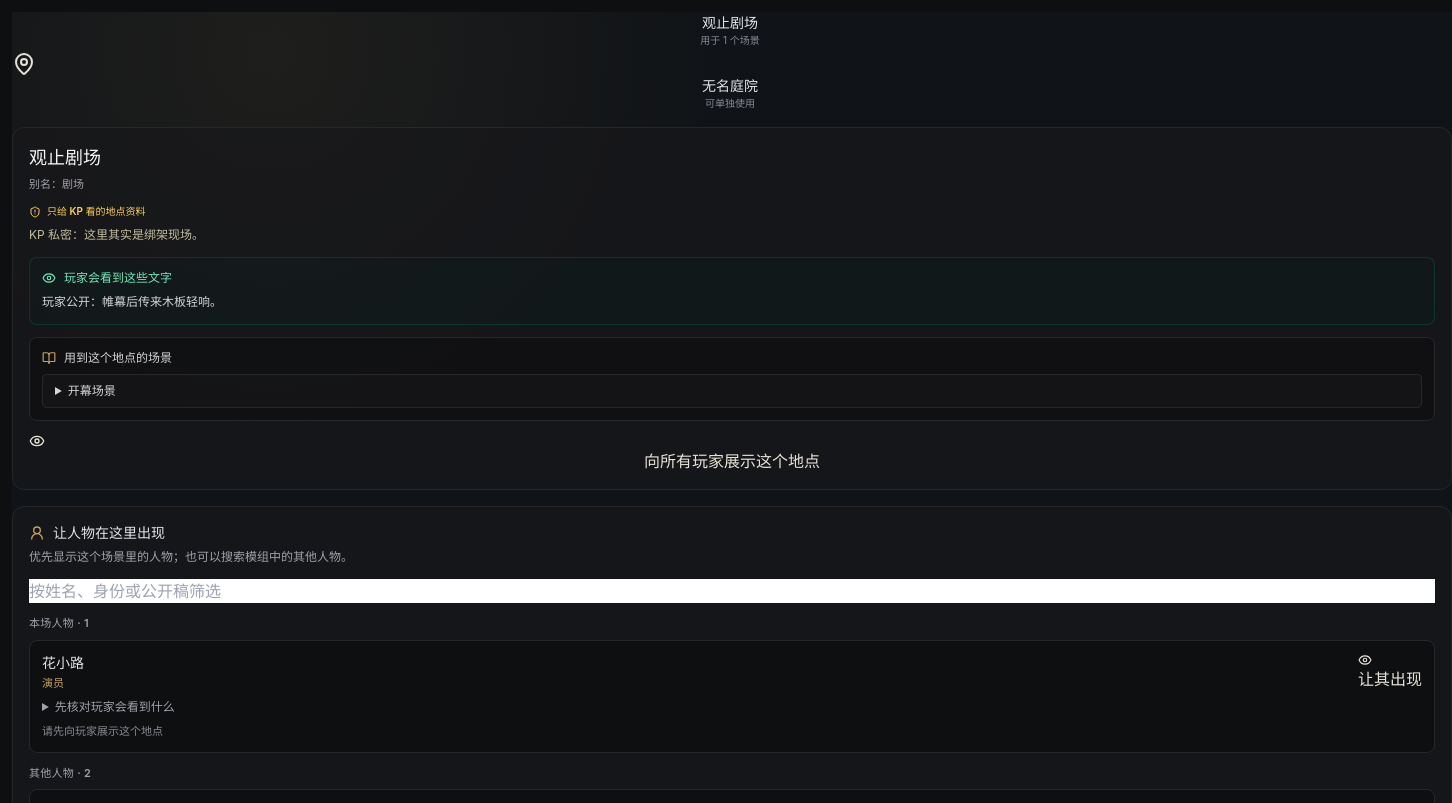
it: KeeperSceneControls › never falls back to keeper location text when playerDescription is absent
(page scrolled)
Click the button with aria-label "选择地点：无名庭院": {"x": 730, "y": 81} left=12, top=52, right=1448, bottom=110
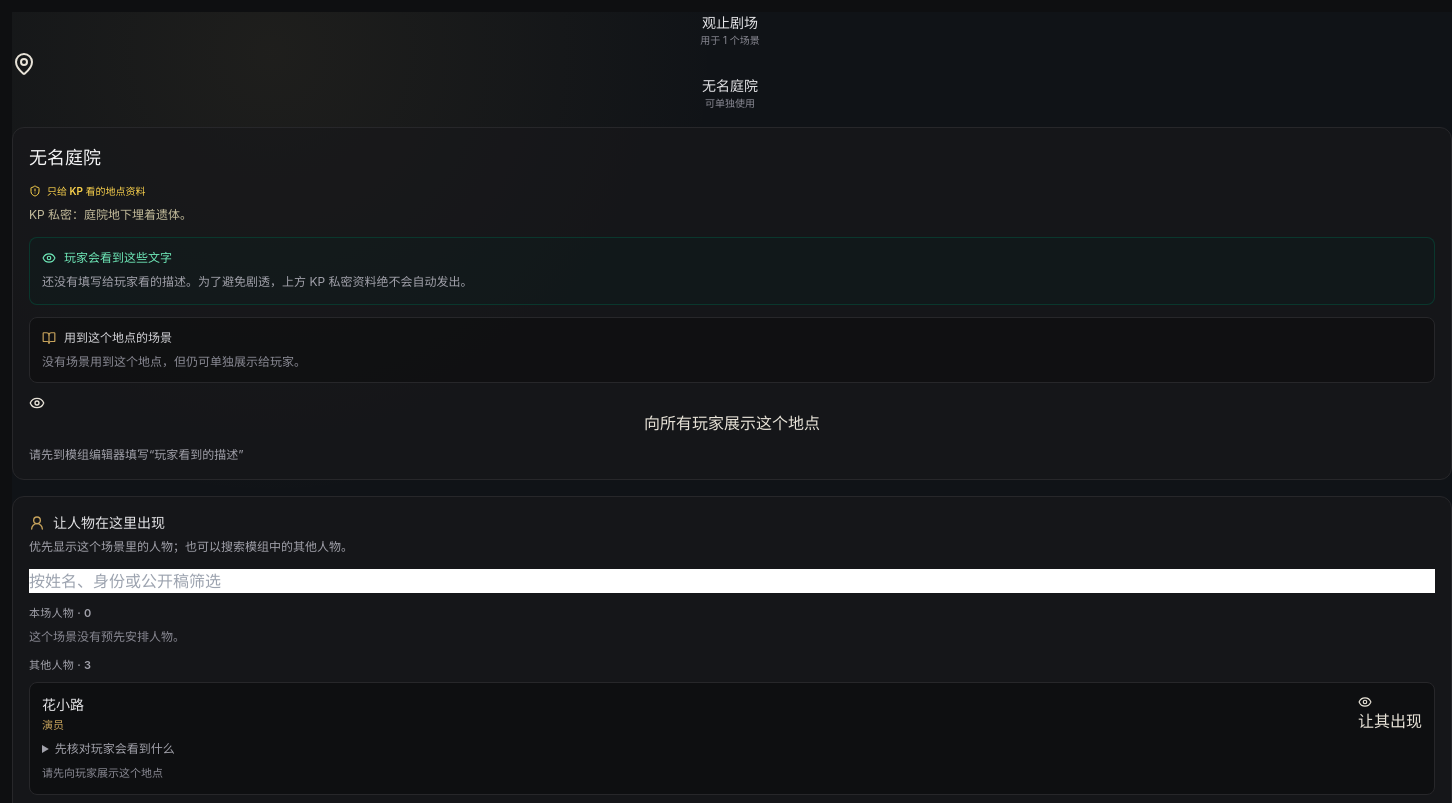
Expected: the text "KP 私密：庭院地下埋着遗体。" is shown, left=29, top=206, right=192, bottom=222
Expected: the text "还没有填写给玩家看的描述。为了避免剧透，上方 KP 私密资料绝不会自动发出。" is shown, left=42, top=274, right=472, bottom=288
Expected: the button "向所有玩家展示这个地点" is disabled, left=29, top=394, right=1435, bottom=434
